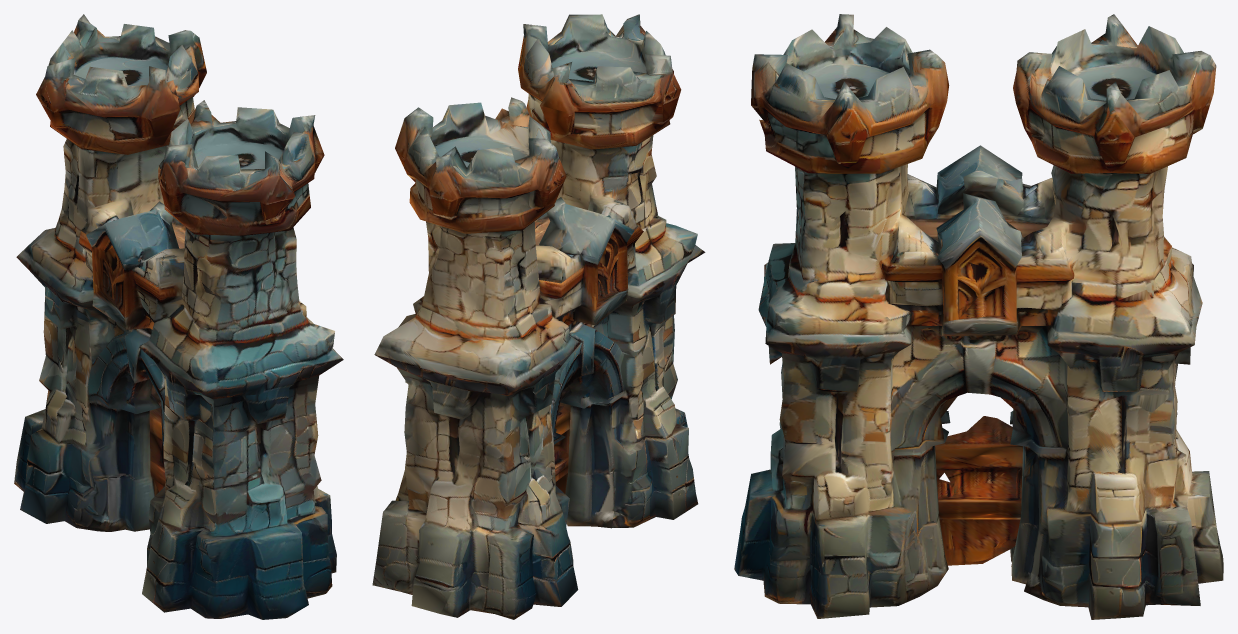
Rendered from TwinGate.fbx.
The picture shows the model from 3 angles, left to right: view 1: azimuth 30°, elevation 25°; view 2: azimuth 150°, elevation 25°; view 3: azimuth 270°, elevation 25°; orthographic projection. The views are drawn at different scales.
Visible parts, largest first — view 1: tripo_node_9888f7ee-aa53-48ad-b5d2-37b6d81fe7fd; view 2: tripo_node_9888f7ee-aa53-48ad-b5d2-37b6d81fe7fd; view 3: tripo_node_9888f7ee-aa53-48ad-b5d2-37b6d81fe7fd.
Part boxes in pixels (box(x1,y1,x2,y2)): tripo_node_9888f7ee-aa53-48ad-b5d2-37b6d81fe7fd: box(14, 14, 343, 619); tripo_node_9888f7ee-aa53-48ad-b5d2-37b6d81fe7fd: box(372, 14, 705, 619); tripo_node_9888f7ee-aa53-48ad-b5d2-37b6d81fe7fd: box(734, 14, 1223, 619).
Bounding box in the file's own units: 41.78 × 100 × 85.17.
1 material, 1 textured.
